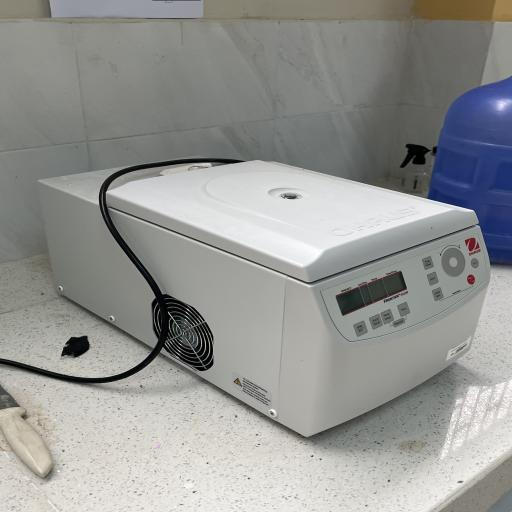Centrifuga_Ohaus_Frontier: (21, 150, 512, 444)
